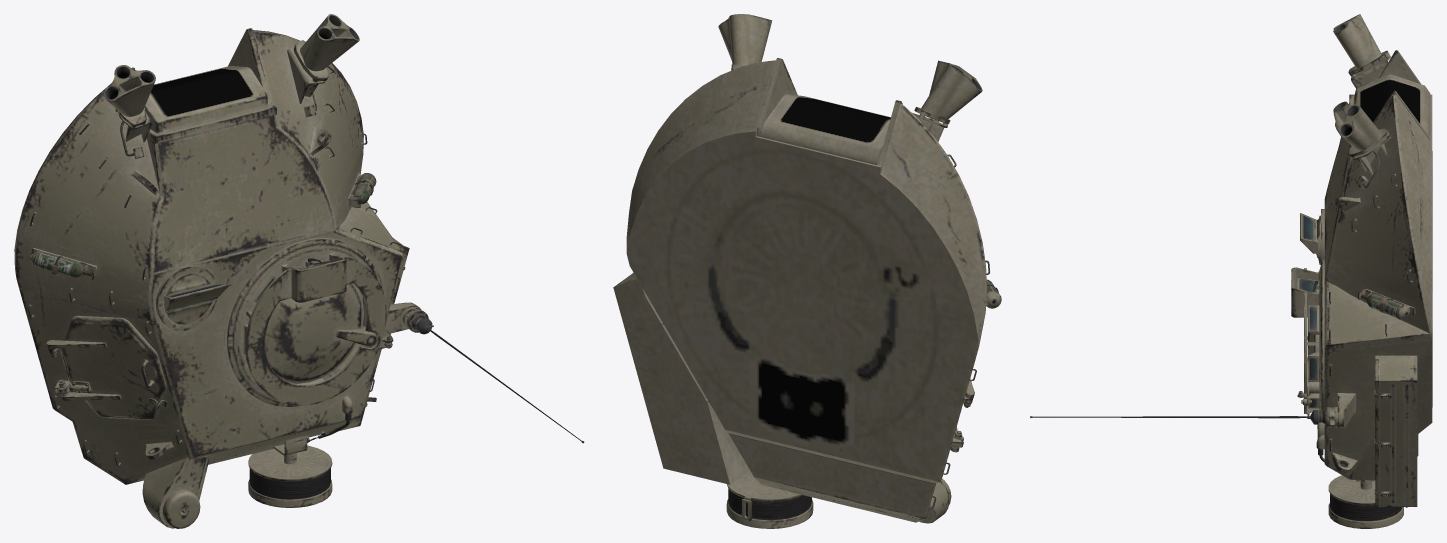
Rendered from Turret_01.glb.
3 views of the same model, side by side, from view 1: azimuth 30°, elevation 25°; view 2: azimuth 150°, elevation 25°; view 3: azimuth 270°, elevation 25° (orthographic). The views are drawn at different scales.
Parts seen in each view (by area): view 1: set_0_group_0; view 2: set_0_group_0; view 3: set_0_group_0.
Part boxes in pixels (x1,y1,x2,y2): set_0_group_0: (14,14,584,528); set_0_group_0: (613,14,1001,528); set_0_group_0: (1030,14,1432,528).
Bounding box in the file's own units: 2.01 × 2.47 × 2.13.
Materials: 1 (1 with a texture image).
